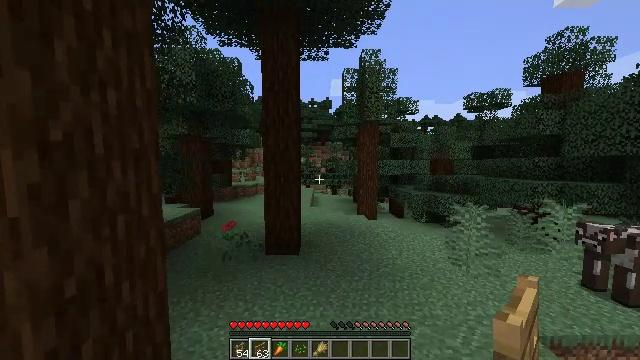cow: (576, 219, 640, 309)
